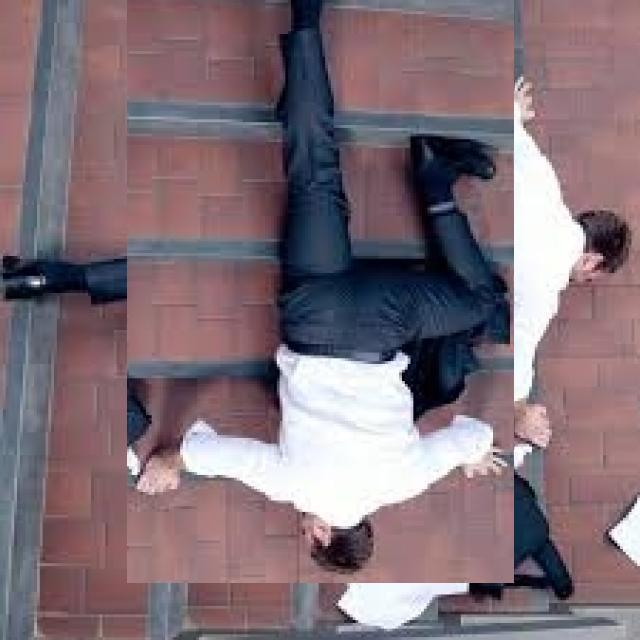Fall: (135, 0, 525, 600)
